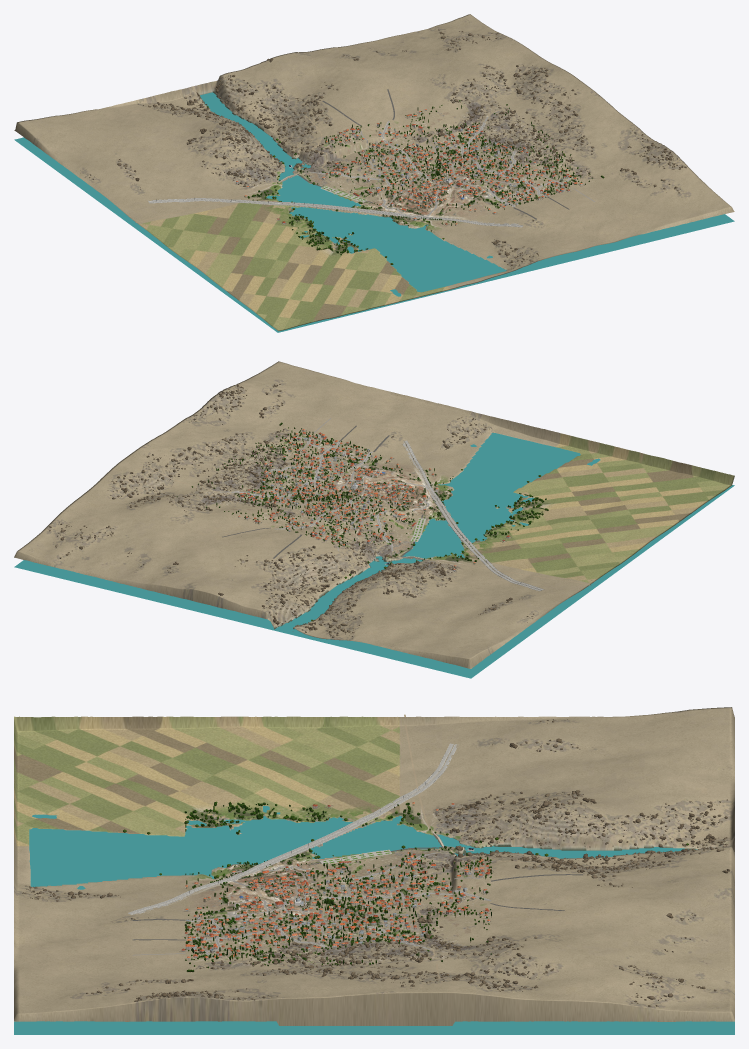
Rendered from koprukoy.glb.
3 views of the same model, one above another, from view 1: azimuth 30°, elevation 25°; view 2: azimuth 150°, elevation 25°; view 3: azimuth 270°, elevation 25° (orthographic). The views are drawn at different scales.
Visible parts, largest first — view 1: Arazi, Su_Kizilirmak, Granit_Kayalar, Agaclar_Yaprak, Arazi_Detay, Bariyerler (×2), Tabla_Guney, Kaldirimlar, Tabla_Kuzey; view 2: Arazi, Su_Kizilirmak, Granit_Kayalar, Agaclar_Yaprak, Arazi_Detay, Kaldirimlar, Tabla_Guney; view 3: Arazi, Su_Kizilirmak, Granit_Kayalar, Agaclar_Yaprak, Arazi_Detay, Bariyerler (×2), Tabla_Guney, Tabla_Kuzey, Kaldirimlar.
Part boxes in pixels (left/top/right/bottom): Arazi: left=14, top=14, right=734, bottom=330; Su_Kizilirmak: left=14, top=92, right=734, bottom=332; Granit_Kayalar: left=80, top=29, right=686, bottom=269; Agaclar_Yaprak: left=207, top=88, right=604, bottom=264; Arazi_Detay: left=367, top=175, right=492, bottom=225; Bariyerler (×2): left=148, top=198, right=522, bottom=226; Tabla_Guney: left=149, top=199, right=522, bottom=227; Kaldirimlar: left=318, top=122, right=570, bottom=206; Tabla_Kuzey: left=148, top=198, right=518, bottom=225; Arazi: left=14, top=361, right=734, bottom=668; Su_Kizilirmak: left=14, top=433, right=734, bottom=678; Granit_Kayalar: left=49, top=384, right=534, bottom=639; Agaclar_Yaprak: left=176, top=422, right=548, bottom=621; Arazi_Detay: left=335, top=464, right=452, bottom=516; Kaldirimlar: left=232, top=437, right=419, bottom=546; Tabla_Guney: left=405, top=440, right=543, bottom=589; Arazi: left=14, top=707, right=734, bottom=1025; Su_Kizilirmak: left=14, top=806, right=734, bottom=1034; Granit_Kayalar: left=22, top=719, right=729, bottom=1006; Agaclar_Yaprak: left=123, top=801, right=688, bottom=971; Arazi_Detay: left=227, top=860, right=310, bottom=916; Bariyerler (×2): left=128, top=744, right=458, bottom=914; Tabla_Guney: left=128, top=743, right=453, bottom=914; Tabla_Kuzey: left=133, top=744, right=457, bottom=914; Kaldirimlar: left=186, top=854, right=489, bottom=957.
Size of the model in its own units: 2014 by 141 by 2000.
42 materials, 2 textured.
